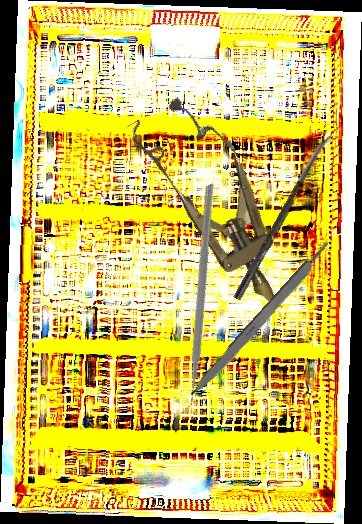Chopper: (86, 182, 301, 418)
Scalpel Handle: (187, 239, 336, 401)
Speculum: (122, 85, 311, 323)
Surgical Spoon: (233, 129, 334, 302)
